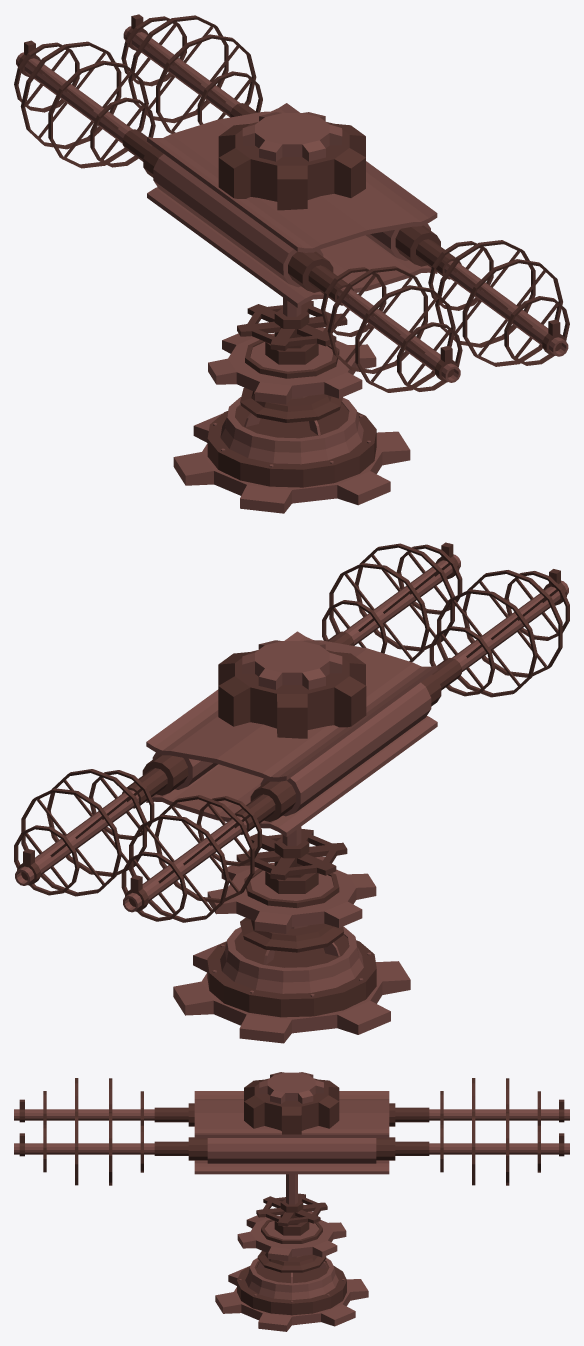
Rendered from laser_quad.glb.
3 views of the same model, one above another, from view 1: azimuth 30°, elevation 25°; view 2: azimuth 150°, elevation 25°; view 3: azimuth 270°, elevation 25° (orthographic). The views are drawn at different scales.
Visible parts, largest first — view 1: _MeshInstance3D_203, _MeshInstance3D_202, _MeshInstance3D_204; view 2: _MeshInstance3D_203, _MeshInstance3D_202, _MeshInstance3D_204; view 3: _MeshInstance3D_203, _MeshInstance3D_202, _MeshInstance3D_204.
Part boxes in pixels (x1,y1,x2,y2): _MeshInstance3D_203: (14, 14, 569, 392); _MeshInstance3D_202: (173, 335, 410, 513); _MeshInstance3D_204: (208, 297, 376, 404); _MeshInstance3D_203: (14, 542, 569, 922); _MeshInstance3D_202: (173, 868, 410, 1043); _MeshInstance3D_204: (207, 827, 376, 933); _MeshInstance3D_203: (14, 1072, 569, 1185); _MeshInstance3D_202: (215, 1216, 368, 1331); _MeshInstance3D_204: (237, 1174, 346, 1261).
Bounding box in the file's own units: 1.39 × 2.16 × 5.
